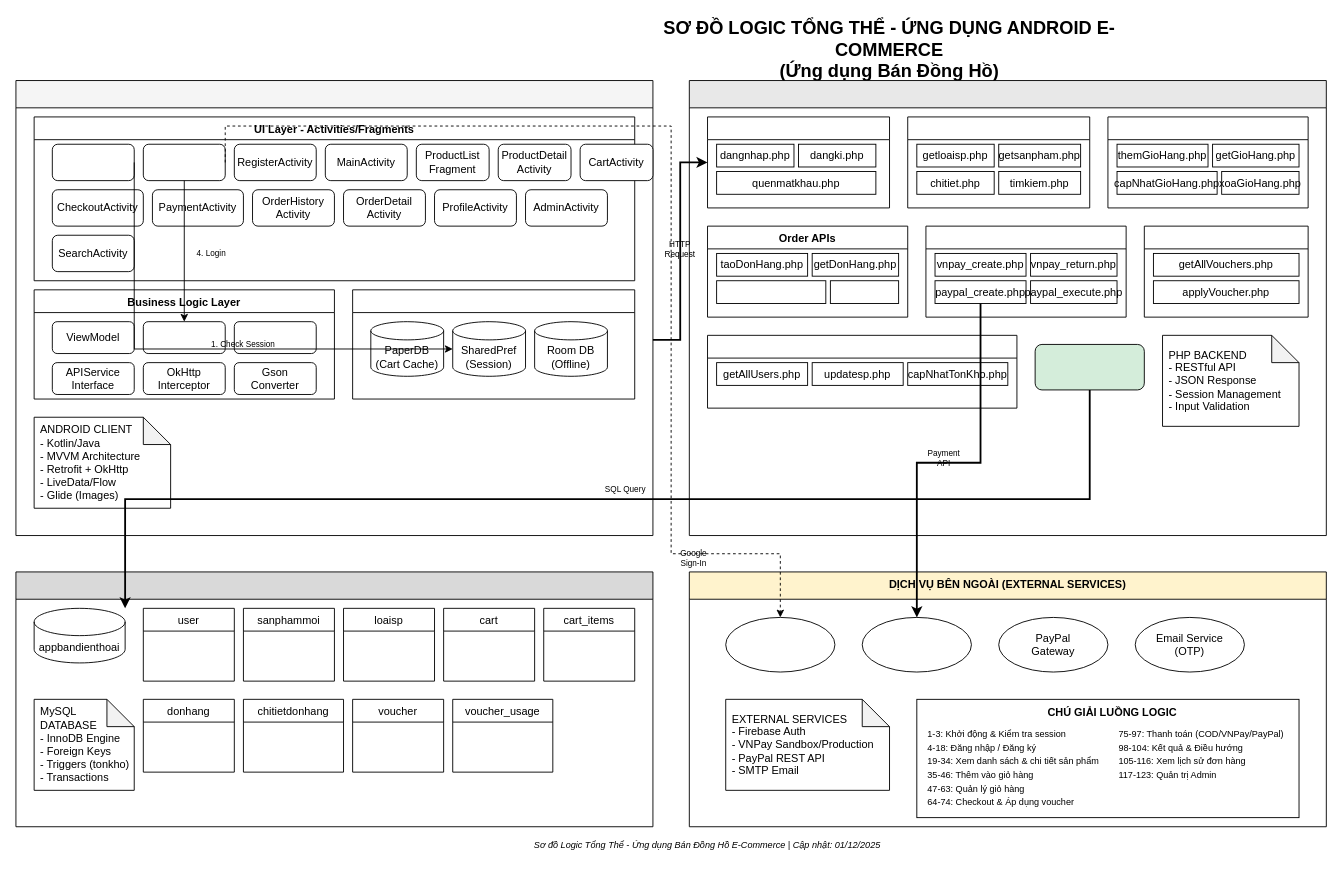
This 1342x869 diagram has some shape labels left out. The box of each missing label's shape, as (x1, y1, x2, y2) in pixels:
Admin APIs: (707, 334, 1017, 408)
Authentication APIs: (707, 116, 890, 208)
capNhatTrangThai.php: (829, 280, 899, 303)
Cart APIs: (1107, 116, 1308, 208)
connect.php (DB Connection): (1034, 344, 1144, 390)
getChiTietDonHang.php: (716, 280, 826, 303)
Google/Firebase Auth: (725, 617, 835, 672)
Local Storage: (352, 289, 635, 399)
LoginActivity: (142, 143, 225, 181)
Payment APIs: (925, 225, 1126, 317)
Product APIs: (907, 116, 1090, 208)
Repository: (142, 321, 225, 354)
RetrofitClient: (233, 321, 316, 354)
SplashActivity: (51, 143, 134, 181)
TẦNG CLIENT (ANDROID APP): (15, 80, 653, 536)
TẦNG DATABASE (MySQL): (15, 571, 653, 827)
TẦNG SERVER (PHP API BACKEND): (688, 80, 1326, 536)
VNPay Gateway: (861, 617, 971, 672)
Voucher APIs: (1143, 225, 1308, 317)
